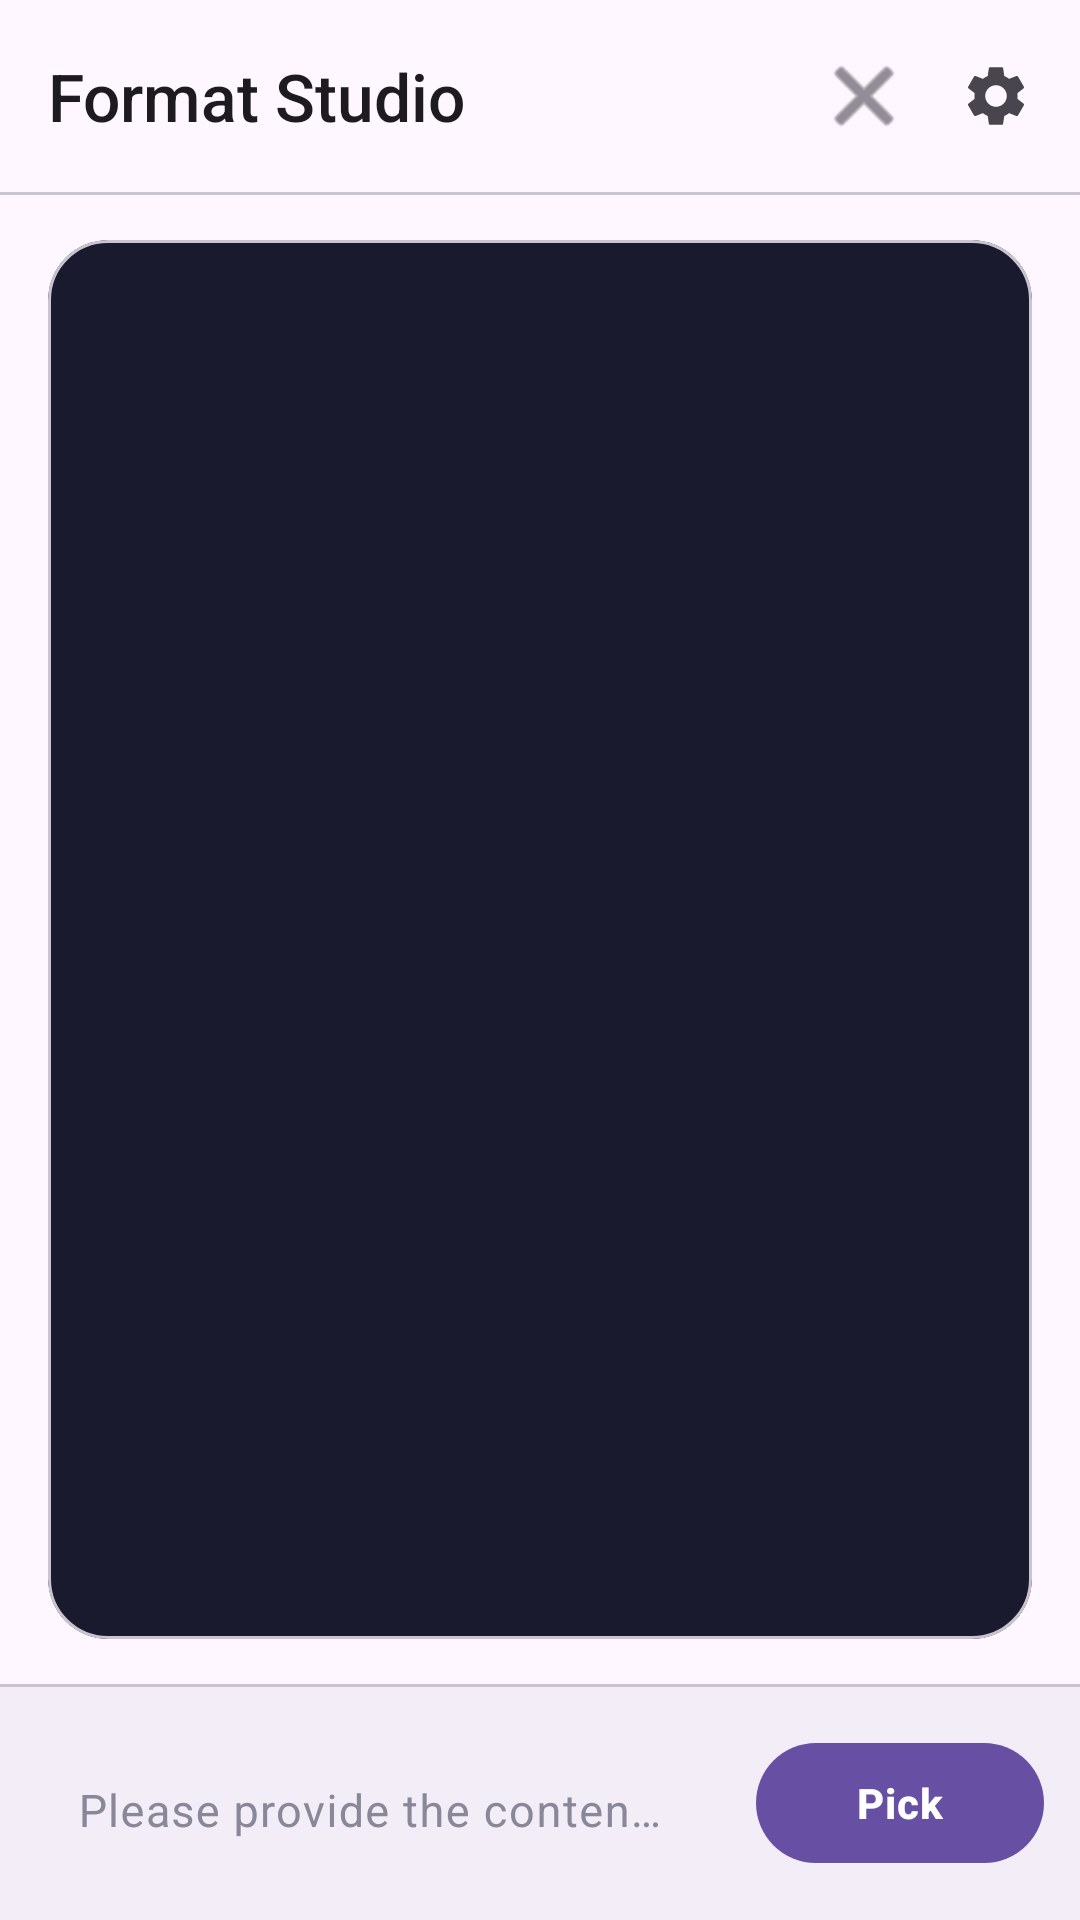

Screen size 1080 × 1920. Icon name, then its center in pixels as (x,y):
close clear cancel: (864,96)
settings: (996,96)
